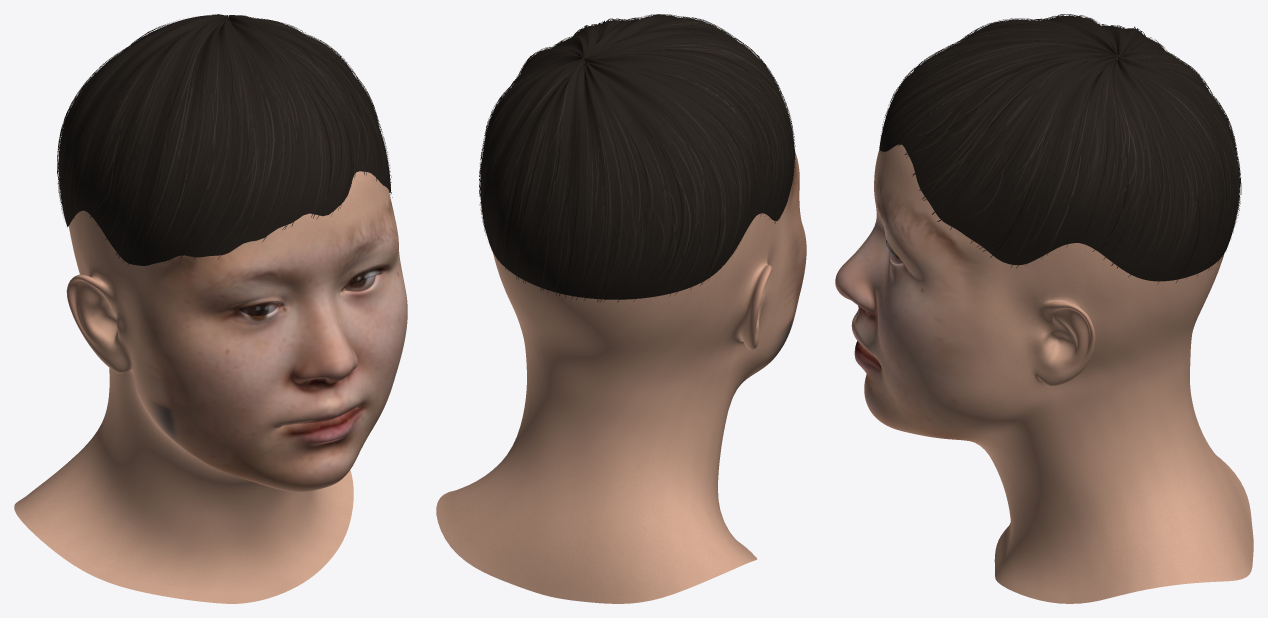
File: sun.glb
3 views of the same model, side by side, from view 1: azimuth 30°, elevation 25°; view 2: azimuth 150°, elevation 25°; view 3: azimuth 270°, elevation 25° (orthographic). The views are drawn at different scales.
Parts seen in each view (by area): view 1: 孙颖莎 · 多角度拟合头模, 发型外层 · 贴头短发与斜向层次, 碎发与发流; view 2: 孙颖莎 · 多角度拟合头模, 发型外层 · 贴头短发与斜向层次, 碎发与发流; view 3: 孙颖莎 · 多角度拟合头模, 发型外层 · 贴头短发与斜向层次, 碎发与发流.
Boxes of the visible parts, bbox=[...] form: 孙颖莎 · 多角度拟合头模: bbox=[14, 171, 407, 603]; 发型外层 · 贴头短发与斜向层次: bbox=[58, 14, 391, 265]; 碎发与发流: bbox=[57, 14, 392, 265]; 孙颖莎 · 多角度拟合头模: bbox=[436, 152, 806, 603]; 发型外层 · 贴头短发与斜向层次: bbox=[480, 15, 795, 299]; 碎发与发流: bbox=[479, 14, 795, 302]; 孙颖莎 · 多角度拟合头模: bbox=[835, 58, 1253, 603]; 发型外层 · 贴头短发与斜向层次: bbox=[879, 16, 1239, 281]; 碎发与发流: bbox=[879, 14, 1241, 284].
Size of the model in its own units: 0.178 by 0.2959 by 0.209.
Materials: 7 (1 with a texture image).
